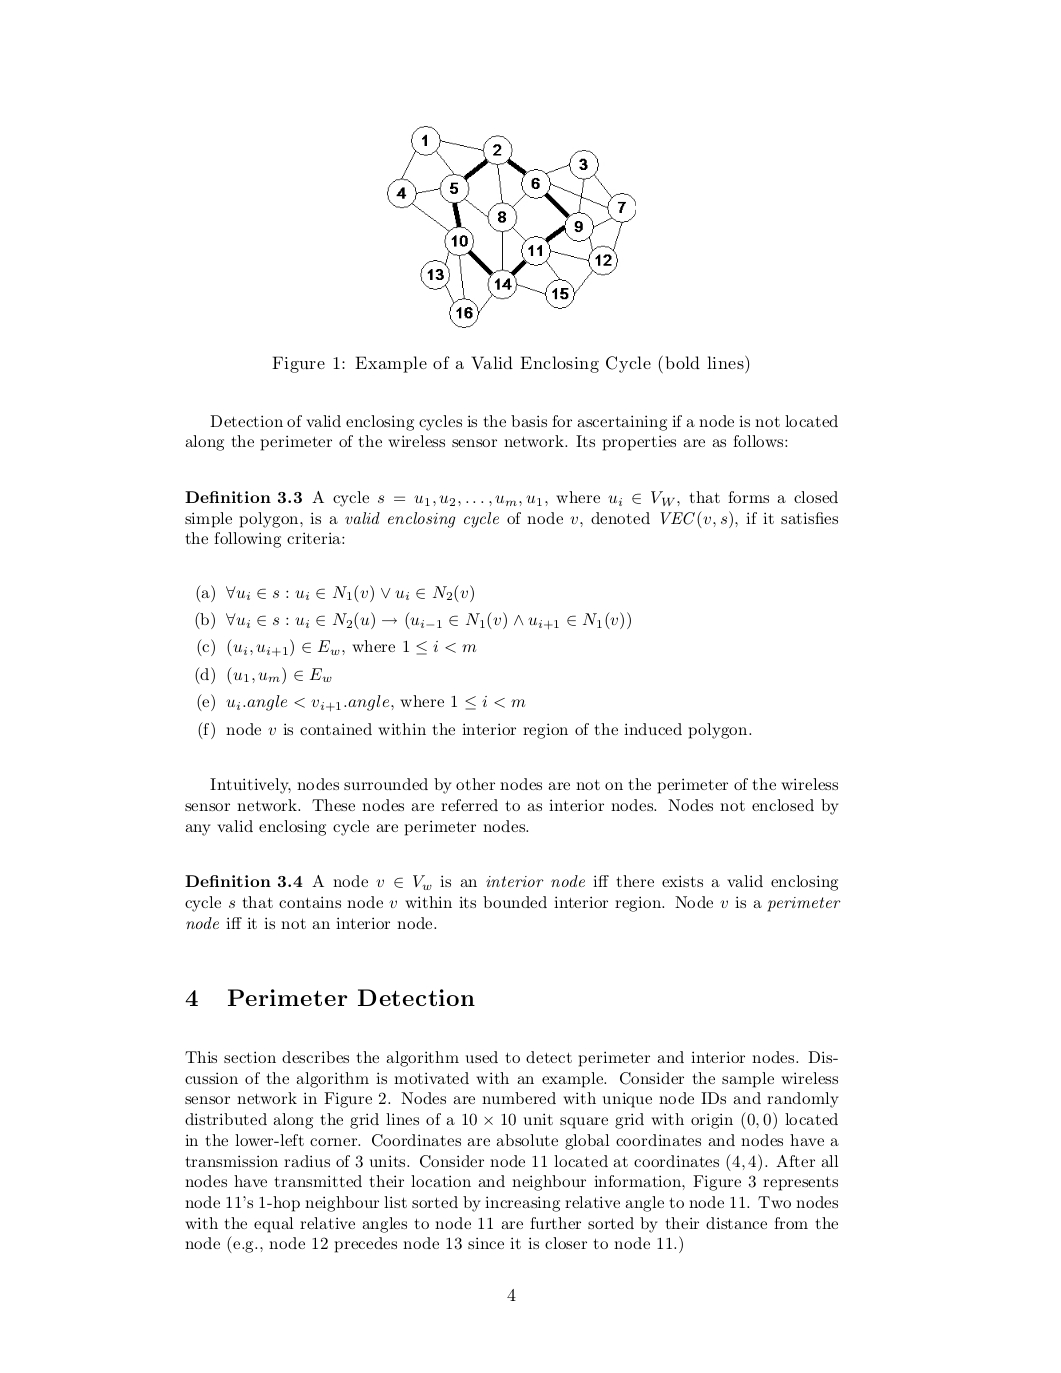figure: (387, 125, 635, 328)
formula: (195, 611, 630, 630), (197, 693, 525, 712), (197, 637, 476, 658), (196, 584, 473, 603), (195, 666, 331, 685)
